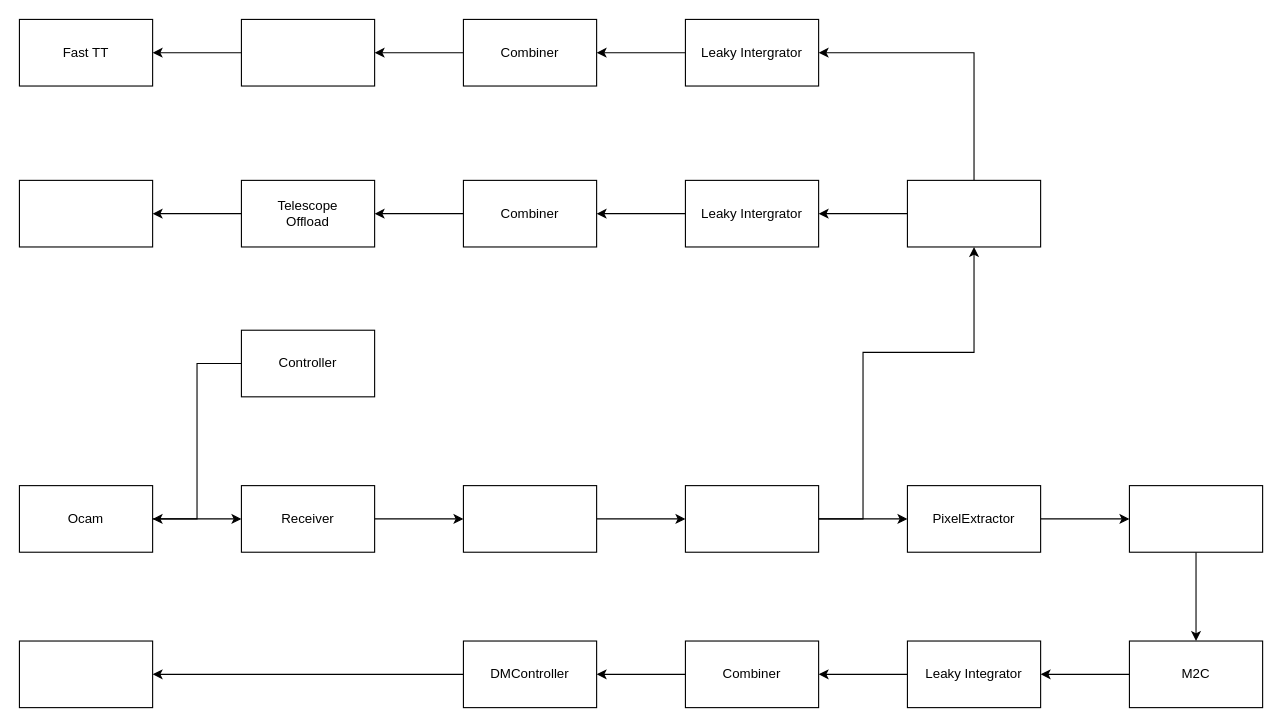
Image size: 1282x727. Some labels were removed from this diagram. Each missing label, with the centre of its shape:
"ALAPO DM" belongs at pixel 85 674.
"Calibrator" belongs at pixel 751 518.
"Descrambler" belongs at pixel 529 518.
"FastTT controller" belongs at pixel 307 52.
"ICS" belongs at pixel 85 213.
"S2M" belongs at pixel 1195 518.
"TTMamement" belongs at pixel 973 213.
